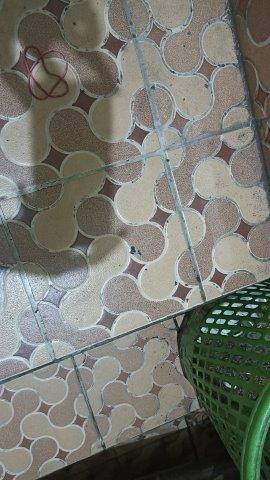karet: (23, 45, 69, 100)
